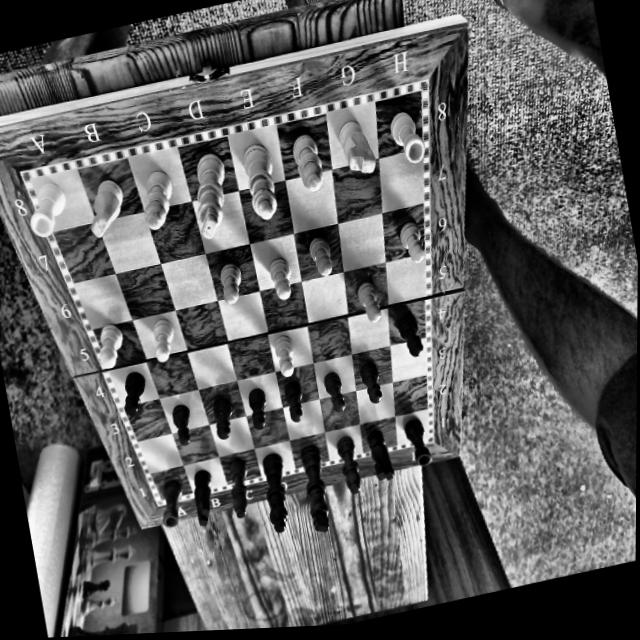black-bishop: (219, 450, 256, 522), (329, 429, 365, 499)
black-king: (291, 434, 336, 537)
black-knight: (183, 462, 222, 529), (359, 421, 397, 486)
black-pawn: (391, 305, 428, 362), (114, 366, 151, 423), (352, 353, 387, 409), (316, 364, 352, 418), (206, 391, 239, 442), (164, 397, 194, 449), (243, 383, 272, 433), (278, 376, 308, 424)
black-queen: (252, 443, 296, 538)
black-rook: (152, 473, 189, 533), (397, 412, 435, 470)
white-bishop: (282, 120, 328, 199), (134, 158, 179, 235)
white-king: (183, 142, 235, 241)
white-knight: (77, 166, 132, 242), (326, 109, 380, 182)
white-pawn: (88, 315, 130, 373), (390, 209, 429, 269), (141, 312, 180, 366), (260, 249, 297, 304), (350, 274, 387, 328), (210, 250, 245, 306), (265, 327, 301, 381), (301, 228, 336, 280)
white-queen: (233, 133, 281, 228)
white-rook: (18, 168, 75, 243), (379, 94, 429, 168)
